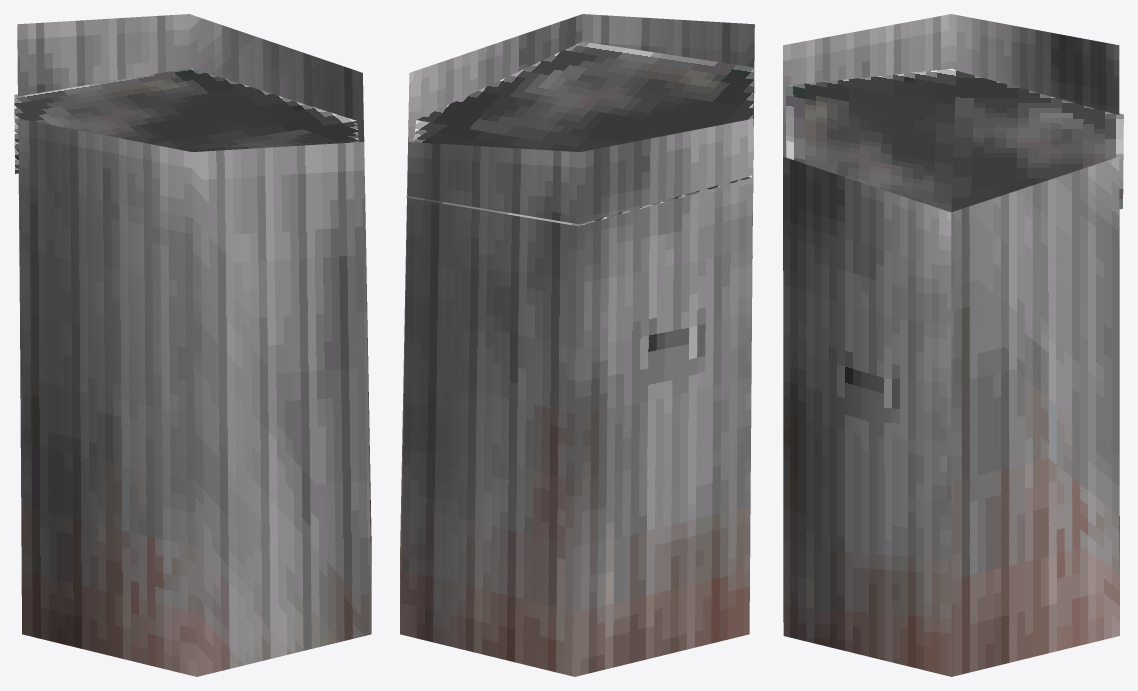
Rendered from Environment - Prop - Trash Can 01 - PMTrshCn.glb.
3 renders of one model, left to right at view 1: azimuth 30°, elevation 25°; view 2: azimuth 150°, elevation 25°; view 3: azimuth 270°, elevation 25°, orthographic. The views are drawn at different scales.
Visible parts, largest first — view 1: PMTRSHCN; view 2: PMTRSHCN; view 3: PMTRSHCN.
Part boxes in pixels (x1,y1,x2,y2): PMTRSHCN: [14, 14, 371, 676]; PMTRSHCN: [400, 14, 754, 676]; PMTRSHCN: [783, 14, 1123, 676].
Bounding box in the file's own units: 6.65 × 9.44 × 5.76.
Materials: 1 (1 with a texture image).
